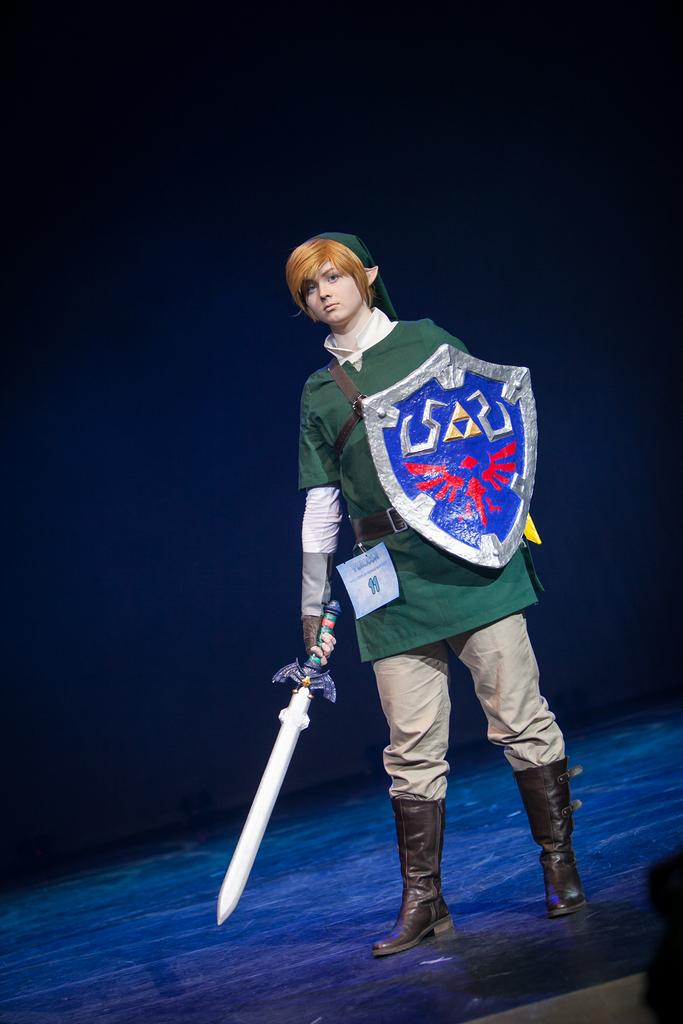Sword: (213, 600, 337, 924)
